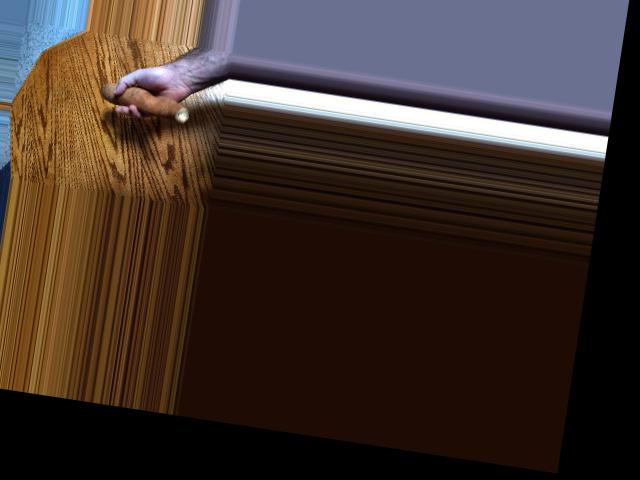sweet_potato: (91, 75, 195, 121)
